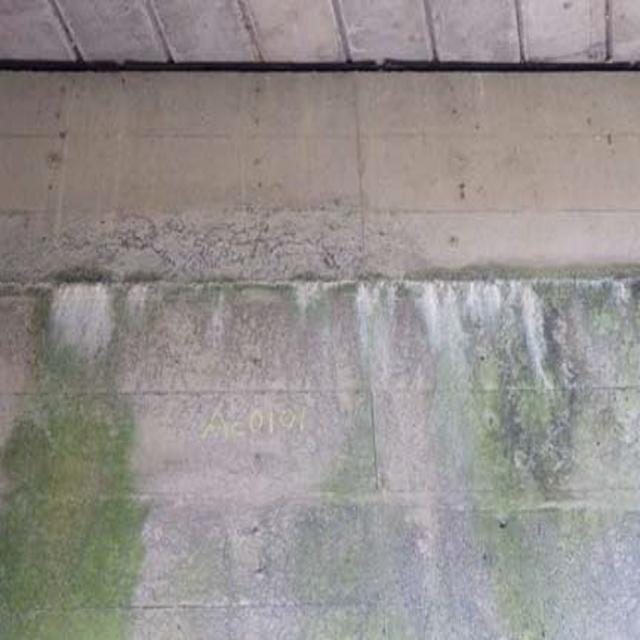freelime: (56, 270, 578, 374)
